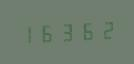one: (18, 22, 36, 45)
six: (37, 21, 55, 44), (75, 19, 93, 42)
three: (56, 20, 74, 43)
two: (94, 18, 112, 41)
